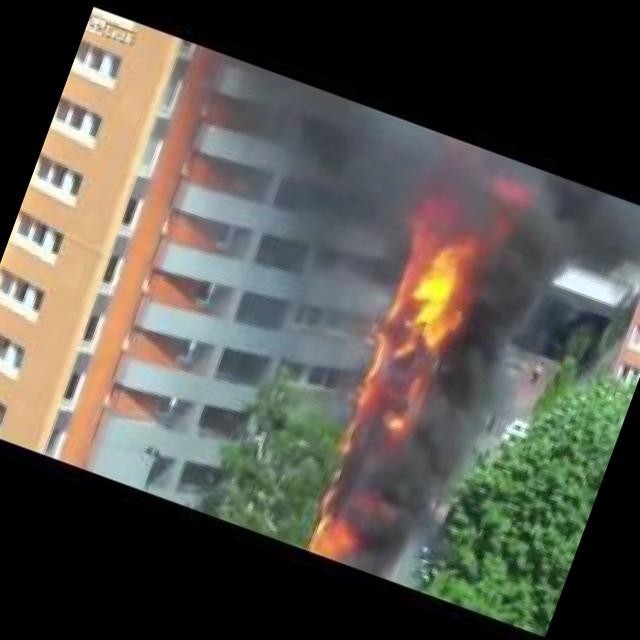fire: (344, 192, 494, 440), (299, 488, 365, 562)
smoke: (349, 154, 590, 597), (205, 72, 448, 324), (298, 398, 469, 548), (562, 188, 640, 307)
